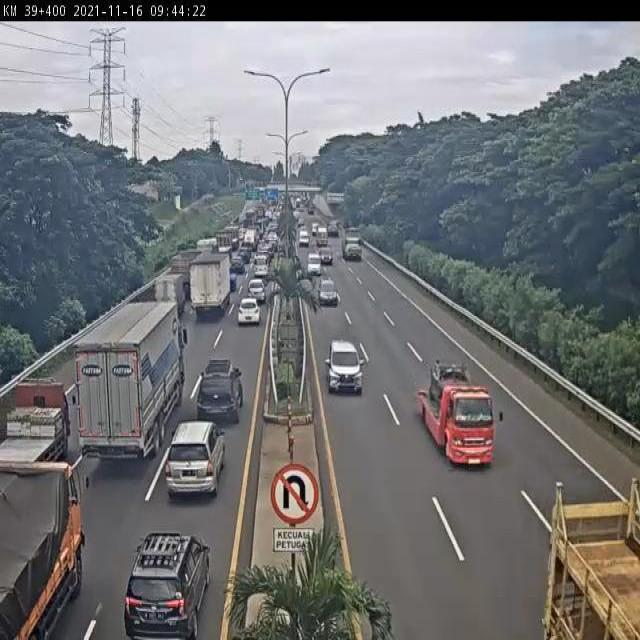car: (124, 530, 211, 640), (165, 422, 227, 502), (197, 356, 244, 423), (325, 338, 364, 394), (237, 297, 262, 324), (319, 277, 340, 307), (253, 254, 269, 278), (250, 279, 267, 301), (307, 252, 322, 276)
small truck: (417, 360, 504, 471), (155, 272, 185, 319)
truck-l-: (73, 300, 187, 461), (342, 226, 362, 262)
truck-m-: (0, 456, 87, 640), (0, 376, 78, 483), (190, 250, 231, 322)
